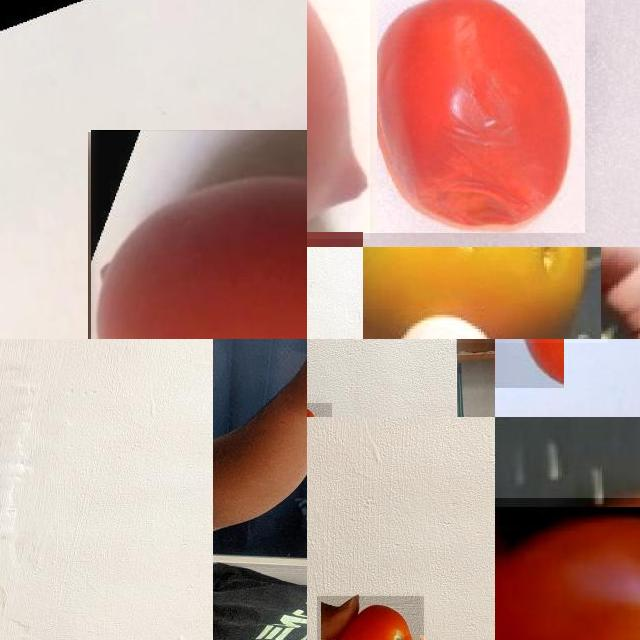0: (89, 131, 307, 339)
Fresh Tomato: (495, 497, 640, 640), (307, 0, 370, 239), (317, 596, 424, 640)
Rotten Tomato: (363, 0, 585, 233), (363, 247, 600, 339)
